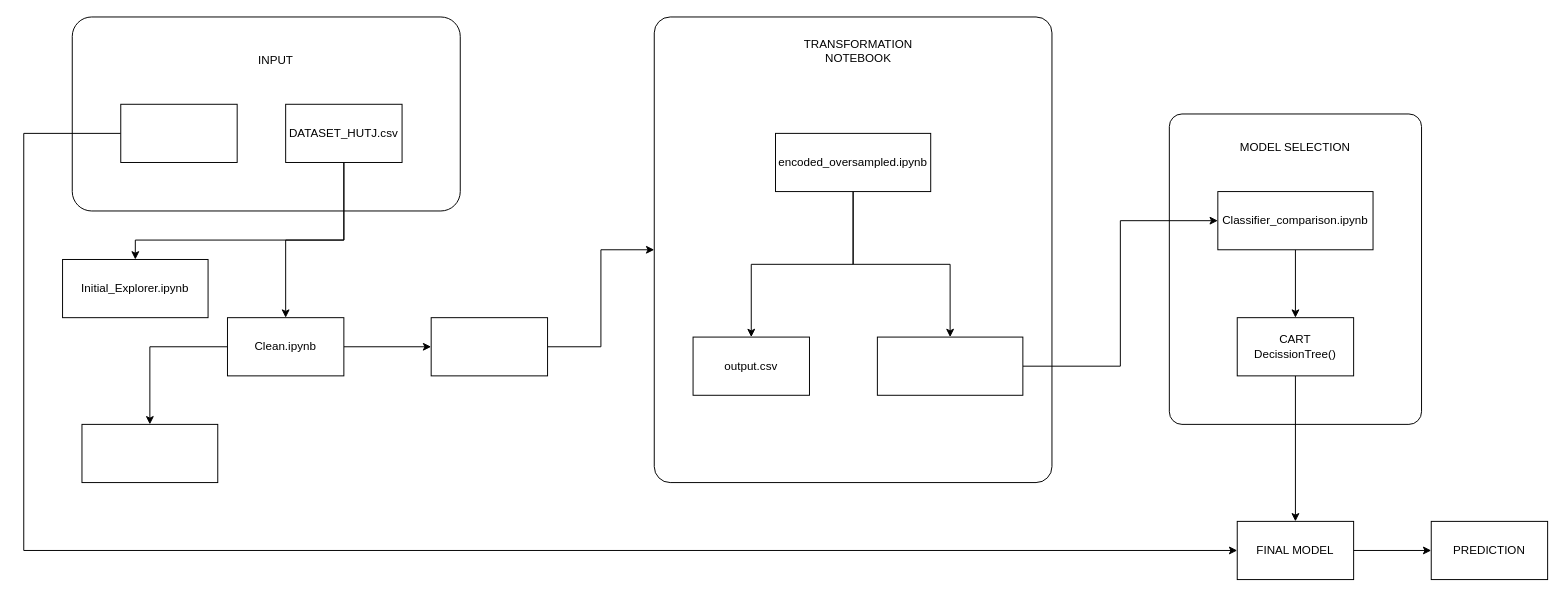
This 1565x597 diagram has some shape labels left out. Each missing label, with the centre of its shape:
"dslf.csv" goes at [489,346].
"HUVS_tp.csv" goes at [178,132].
"output_oversampling.csv" goes at [949,365].
"Variable_Explorer.ipynb" goes at [149,453].
